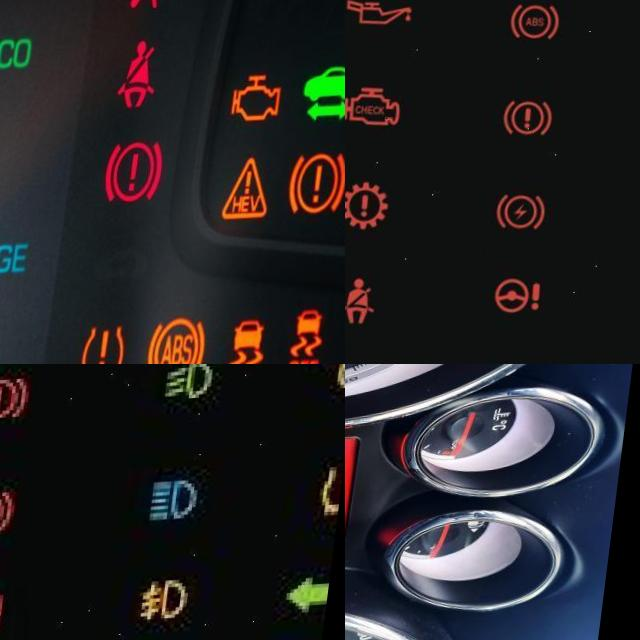Electronic Power Steering Warning: (501, 279, 559, 322), (0, 593, 20, 640)
Seat Belt: (125, 43, 165, 110), (346, 276, 391, 332)
